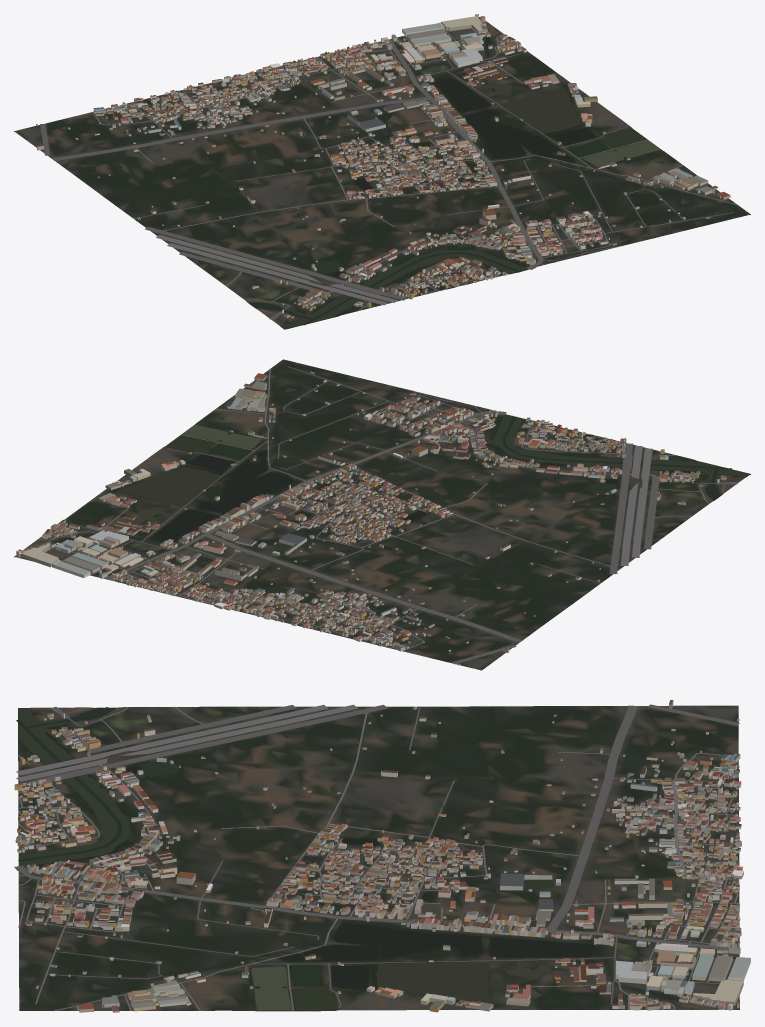
The picture shows the model from 3 angles, top to bottom: view 1: azimuth 30°, elevation 25°; view 2: azimuth 150°, elevation 25°; view 3: azimuth 270°, elevation 25°; orthographic projection. The views are drawn at different scales.
Parts seen in each view (by area): view 1: ground, buildings, roads, water; view 2: ground, buildings, water, roads; view 3: ground, buildings, water, roads.
Boxes of the visible parts, box(x1,y1,x2,y2) form: ground: box(14, 17, 750, 329); buildings: box(36, 14, 730, 318); roads: box(40, 20, 737, 319); water: box(248, 78, 660, 328); ground: box(14, 359, 750, 670); buildings: box(16, 371, 726, 665); water: box(117, 414, 749, 553); roads: box(39, 366, 737, 664); ground: box(18, 705, 739, 1011); buildings: box(14, 700, 750, 1012); water: box(16, 707, 594, 1010); roads: box(14, 704, 740, 1011).
Size of the model in its own units: 1418 by 24.04 by 1434.
